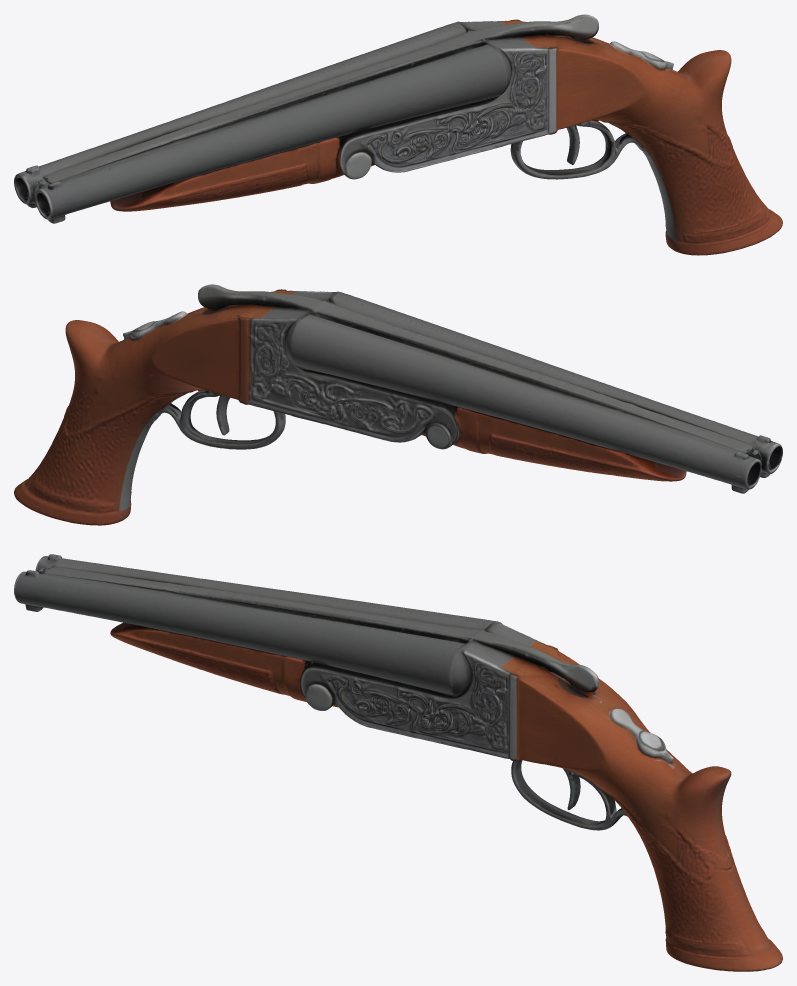
Rendered from thaca_Auto_Burglar__1114203625_texture.fbx.
3 renders of one model, top to bottom at view 1: azimuth 30°, elevation 25°; view 2: azimuth 150°, elevation 25°; view 3: azimuth 330°, elevation 25°, orthographic.
Visible parts, largest first — view 1: input; view 2: input; view 3: input.
Part boxes in pixels (bbox=[...]): input: bbox=[14, 14, 782, 255]; input: bbox=[14, 284, 782, 525]; input: bbox=[14, 554, 782, 971].
Bounding box in the file's own units: 190 × 63.87 × 24.94.
1 material, 1 textured.
